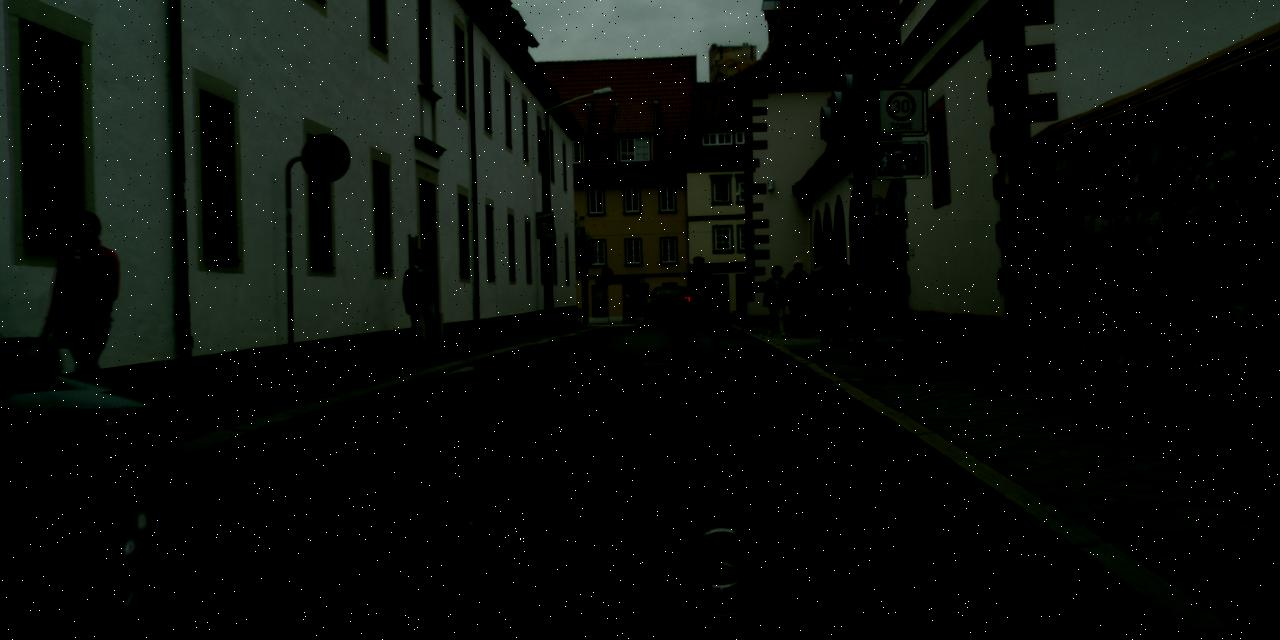ped: (42, 210, 136, 439), (401, 248, 444, 356), (679, 256, 718, 350), (804, 252, 842, 344), (822, 251, 859, 341), (847, 252, 880, 334), (782, 258, 814, 336), (762, 265, 792, 337)
